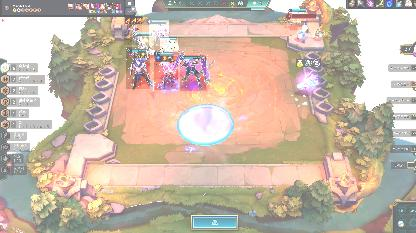1_seraphine: (160, 38, 178, 56)
2_jayce: (132, 32, 154, 54)
2_pantheon: (126, 47, 150, 89)
2_syfen: (180, 55, 206, 91)
2_sylas: (149, 20, 169, 46)
2_yasuo: (154, 52, 178, 90)
2_zyra: (124, 15, 142, 45)
